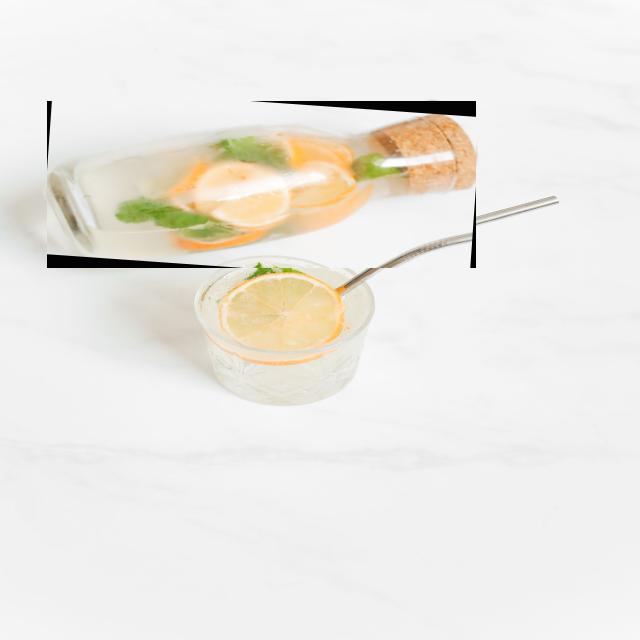Bottle: (47, 101, 475, 268)
